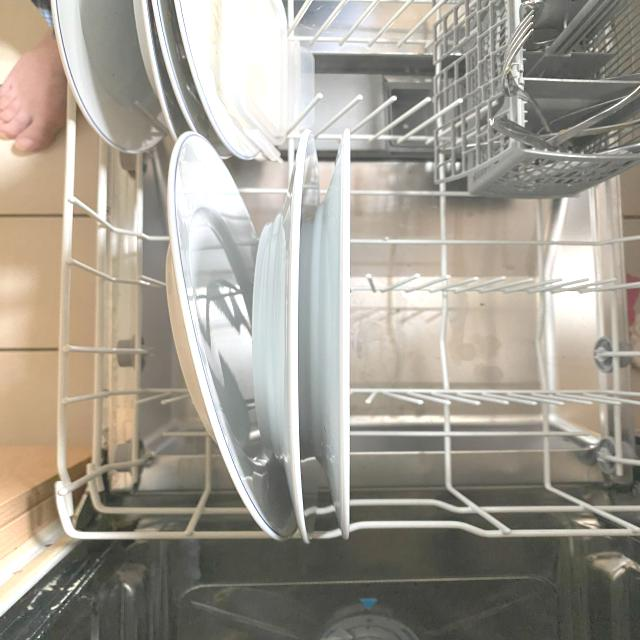clutery_bin: (508, 3, 633, 175)
empty_slot: (357, 202, 633, 531), (292, 0, 428, 152)
